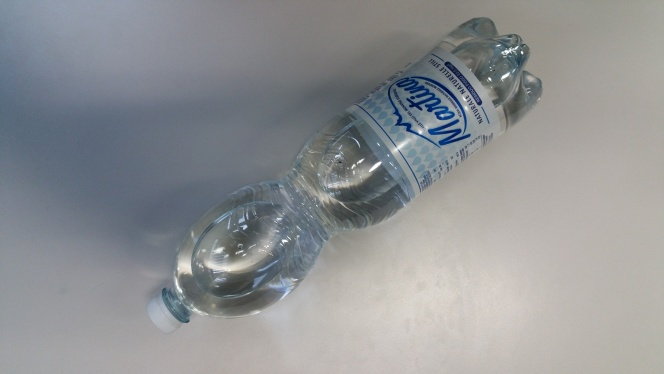bottle: (133, 20, 541, 338)
